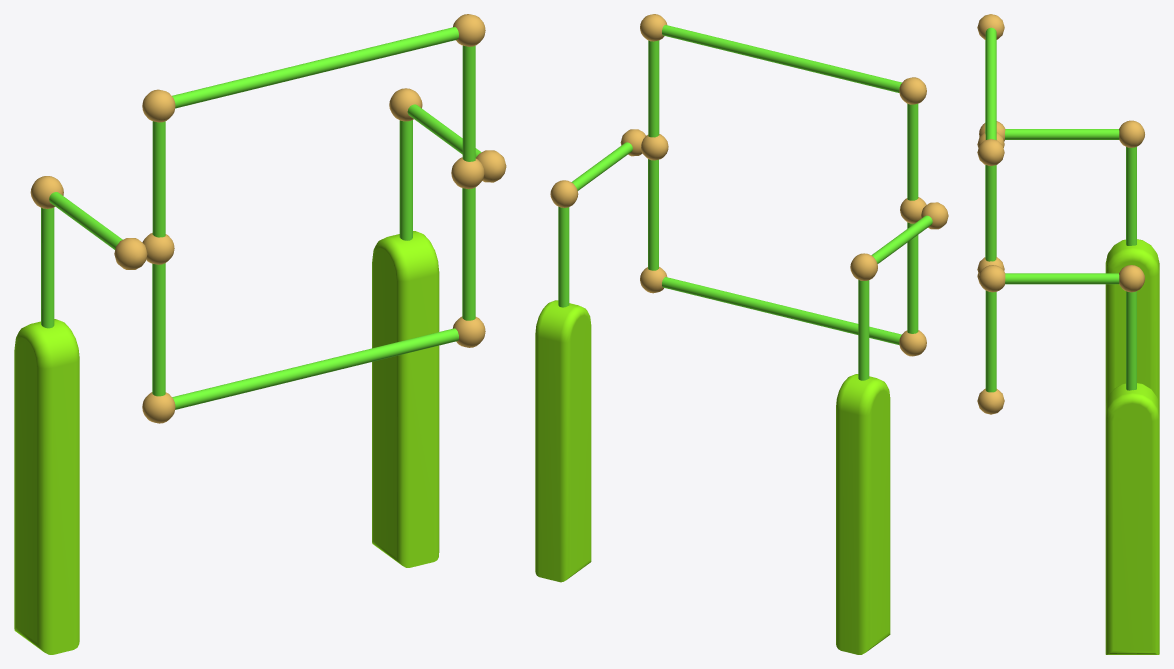
The model's file is Obstacle4.fbx.
3 views of the same model, side by side, from view 1: azimuth 30°, elevation 25°; view 2: azimuth 150°, elevation 25°; view 3: azimuth 270°, elevation 25° (orthographic). The views are drawn at different scales.
Parts seen in each view (by area): view 1: Body2, Body, rectangle, Arm1, Arm2; view 2: Body, Body2, rectangle, Arm1, Arm2; view 3: Body, Body2, rectangle, Arm2, Arm1.
Part boxes in pixels (x1,y1,x2,y2): Body2: (14,319,79,654); Body: (372,231,439,567); rectangle: (142,14,485,423); Arm1: (30,176,147,328); Arm2: (389,88,506,240); Body: (535,300,591,582); Body2: (836,374,890,654); rectangle: (640,14,926,356); Arm1: (850,202,948,380); Arm2: (550,129,645,307); Body: (1105,383,1159,654); Body2: (1105,239,1159,406); rectangle: (977,14,1004,414); Arm2: (979,265,1144,390); Arm1: (979,120,1144,245).
Size of the model in its own units: 610 by 883 by 292.
